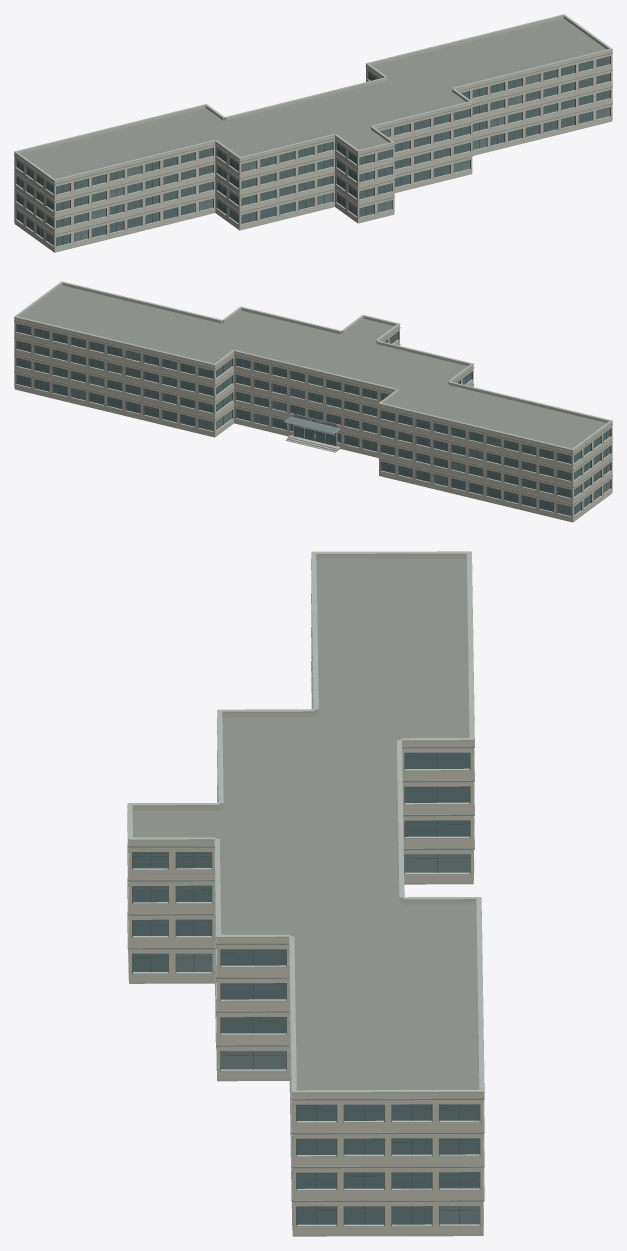
The model's file is south_old_library.glb.
3 views of the same model, one above another, from view 1: azimuth 30°, elevation 25°; view 2: azimuth 150°, elevation 25°; view 3: azimuth 270°, elevation 25° (orthographic). The views are drawn at different scales.
Parts seen in each view (by area): view 1: south_old_library_OldLibraryPlaster, south_old_library_FacultyRoof, south_old_library_WindowGlass, south_old_library_FacultyDarkPanel, south_old_library_WindowAluminium, south_old_library_Teaching5TileJoint, south_old_library_WindowReveal, south_old_library_WindowRubber, south_old_library_WindowGlassLight, south_old_library_EntryStone; view 2: south_old_library_OldLibraryPlaster, south_old_library_FacultyRoof, south_old_library_WindowGlass, south_old_library_FacultyDarkPanel, south_old_library_WindowAluminium, south_old_library_Teaching5TileJoint, south_old_library_WindowReveal, south_old_library_WindowRubber, south_old_library_WindowGlassLight, south_old_library_EntryStone; view 3: south_old_library_FacultyRoof, south_old_library_OldLibraryPlaster, south_old_library_WindowGlass, south_old_library_Teaching5TileJoint, south_old_library_FacultyDarkPanel, south_old_library_WindowAluminium, south_old_library_WindowGlassLight, south_old_library_WindowRubber, south_old_library_WindowReveal, south_old_library_EntryStone.
Part boxes in pixels (left/top/right/bottom): south_old_library_OldLibraryPlaster: left=14, top=16, right=612, bottom=251; south_old_library_FacultyRoof: left=20, top=18, right=606, bottom=179; south_old_library_WindowGlass: left=16, top=56, right=609, bottom=246; south_old_library_FacultyDarkPanel: left=14, top=52, right=612, bottom=235; south_old_library_WindowAluminium: left=15, top=64, right=610, bottom=247; south_old_library_Teaching5TileJoint: left=14, top=14, right=612, bottom=180; south_old_library_WindowReveal: left=15, top=56, right=610, bottom=246; south_old_library_WindowRubber: left=16, top=58, right=609, bottom=244; south_old_library_WindowGlassLight: left=46, top=73, right=609, bottom=245; south_old_library_EntryStone: left=14, top=120, right=612, bottom=252; south_old_library_OldLibraryPlaster: left=14, top=283, right=612, bottom=521; south_old_library_FacultyRoof: left=20, top=285, right=606, bottom=448; south_old_library_WindowGlass: left=17, top=324, right=610, bottom=514; south_old_library_FacultyDarkPanel: left=14, top=320, right=612, bottom=505; south_old_library_WindowAluminium: left=16, top=332, right=611, bottom=516; south_old_library_Teaching5TileJoint: left=14, top=281, right=612, bottom=450; south_old_library_WindowReveal: left=16, top=323, right=611, bottom=516; south_old_library_WindowRubber: left=17, top=325, right=610, bottom=514; south_old_library_WindowGlassLight: left=71, top=350, right=610, bottom=515; south_old_library_EntryStone: left=15, top=388, right=612, bottom=522; south_old_library_FacultyRoof: left=132, top=559, right=479, bottom=1090; south_old_library_OldLibraryPlaster: left=128, top=554, right=483, bottom=1234; south_old_library_WindowGlass: left=133, top=752, right=479, bottom=1224; south_old_library_Teaching5TileJoint: left=127, top=551, right=484, bottom=1093; south_old_library_FacultyDarkPanel: left=127, top=559, right=484, bottom=1202; south_old_library_WindowAluminium: left=128, top=757, right=483, bottom=1226; south_old_library_WindowGlassLight: left=176, top=854, right=479, bottom=1224; south_old_library_WindowRubber: left=133, top=752, right=479, bottom=1224; south_old_library_WindowReveal: left=132, top=752, right=480, bottom=1226; south_old_library_EntryStone: left=129, top=882, right=483, bottom=1236.
Size of the model in its own units: 117 by 14.62 by 34.11.
